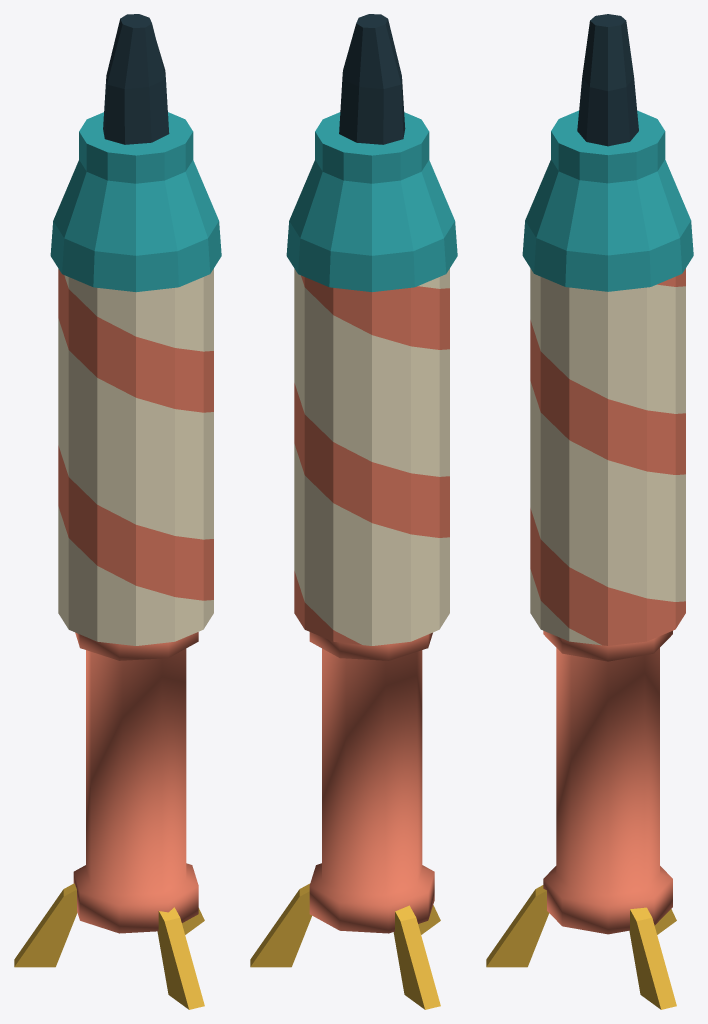
File: wield-doodle-rocket.glb
3 renders of one model, left to right at view 1: azimuth 30°, elevation 25°; view 2: azimuth 150°, elevation 25°; view 3: azimuth 270°, elevation 25°, orthographic.
Visible parts, largest first — view 1: marker__static_mesh; view 2: marker__static_mesh; view 3: marker__static_mesh.
Boxes of the visible parts, x1=… form: marker__static_mesh: x1=14, y1=14, x2=221, y2=1009; marker__static_mesh: x1=250, y1=14, x2=457, y2=1009; marker__static_mesh: x1=486, y1=14, x2=693, y2=1009.
Size of the model in its own units: 0.0849 by 0.401 by 0.08.
